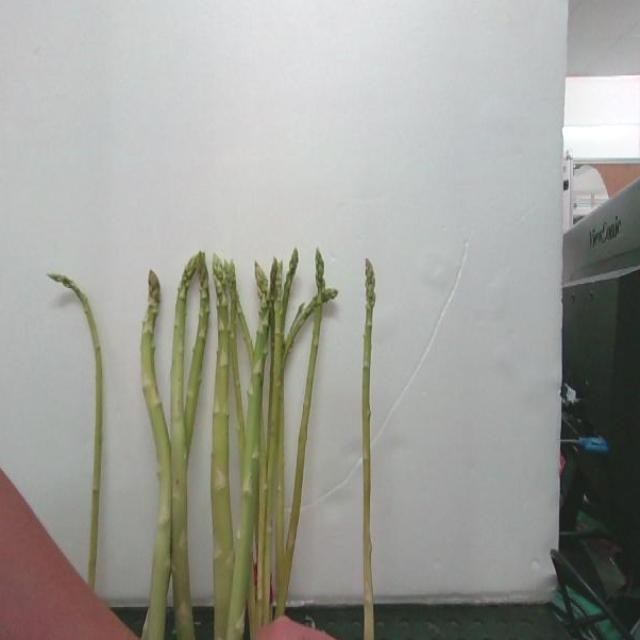aspargus: (45, 273, 105, 591), (141, 273, 175, 640), (361, 261, 379, 640)
